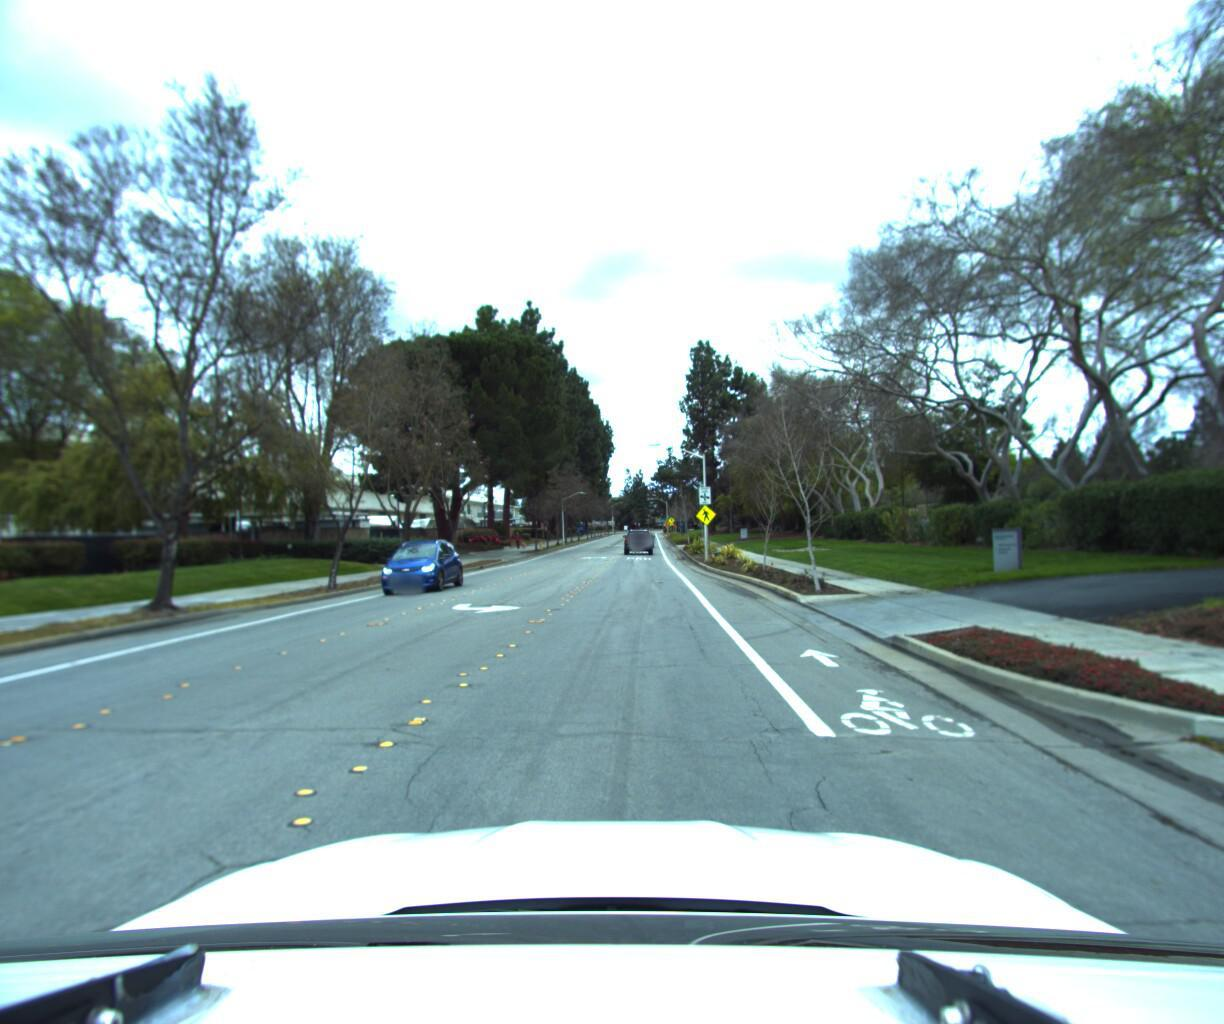car: (370, 537, 466, 597), (620, 523, 651, 550)
